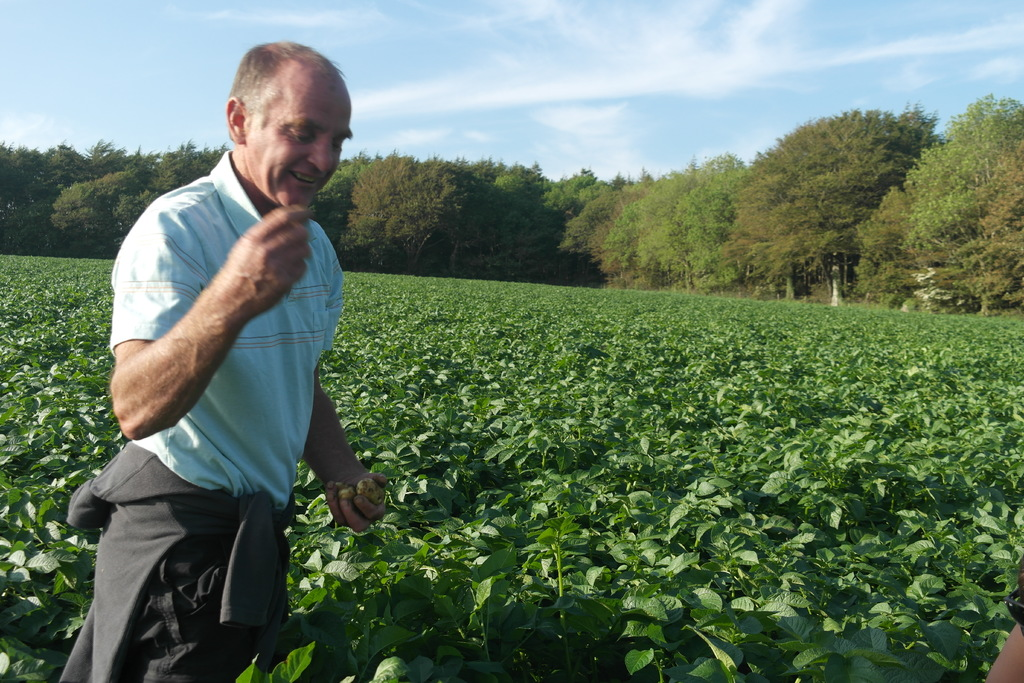Tree: (0, 92, 1023, 318)
